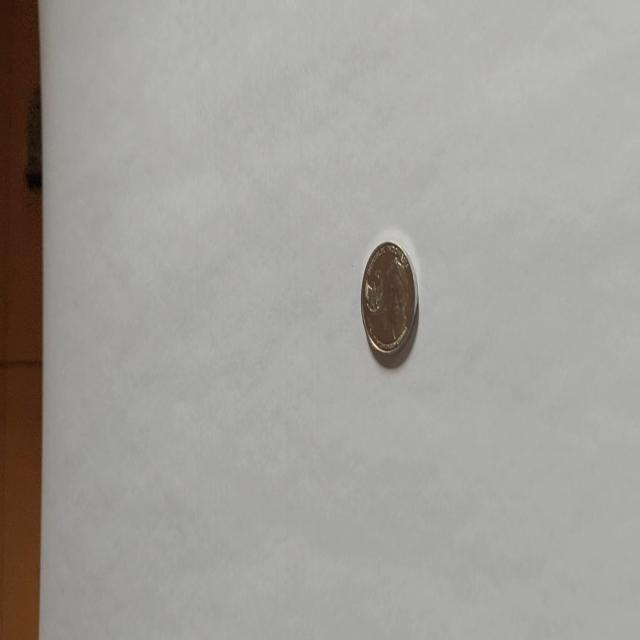dua ratus rupiah: (360, 239, 418, 360)
